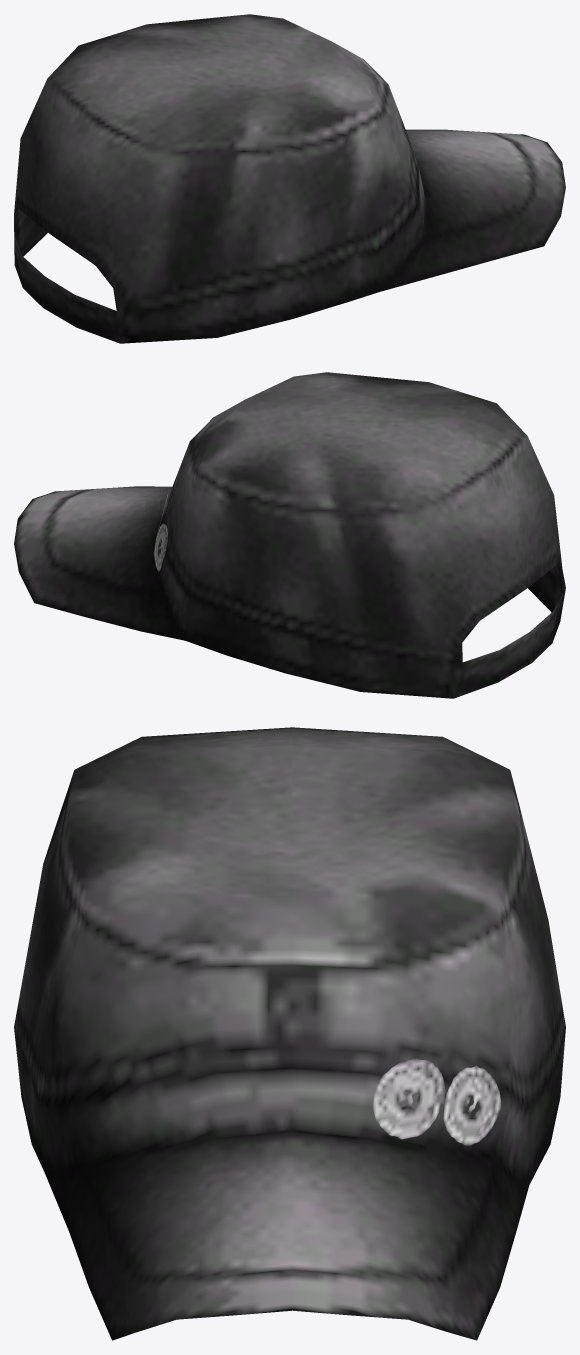
File: hat_0450022.FBX
3 renders of one model, top to bottom at view 1: azimuth 30°, elevation 25°; view 2: azimuth 150°, elevation 25°; view 3: azimuth 270°, elevation 25°, orthographic. The views are drawn at different scales.
Visible parts, largest first — view 1: hat_0450022; view 2: hat_0450022; view 3: hat_0450022.
Boxes of the visible parts, x1,y1,x2,y2 form: hat_0450022: [14, 14, 565, 343]; hat_0450022: [14, 372, 565, 698]; hat_0450022: [14, 727, 565, 1340].
Bounding box in the file's own units: 34.23 × 13.42 × 20.37.
